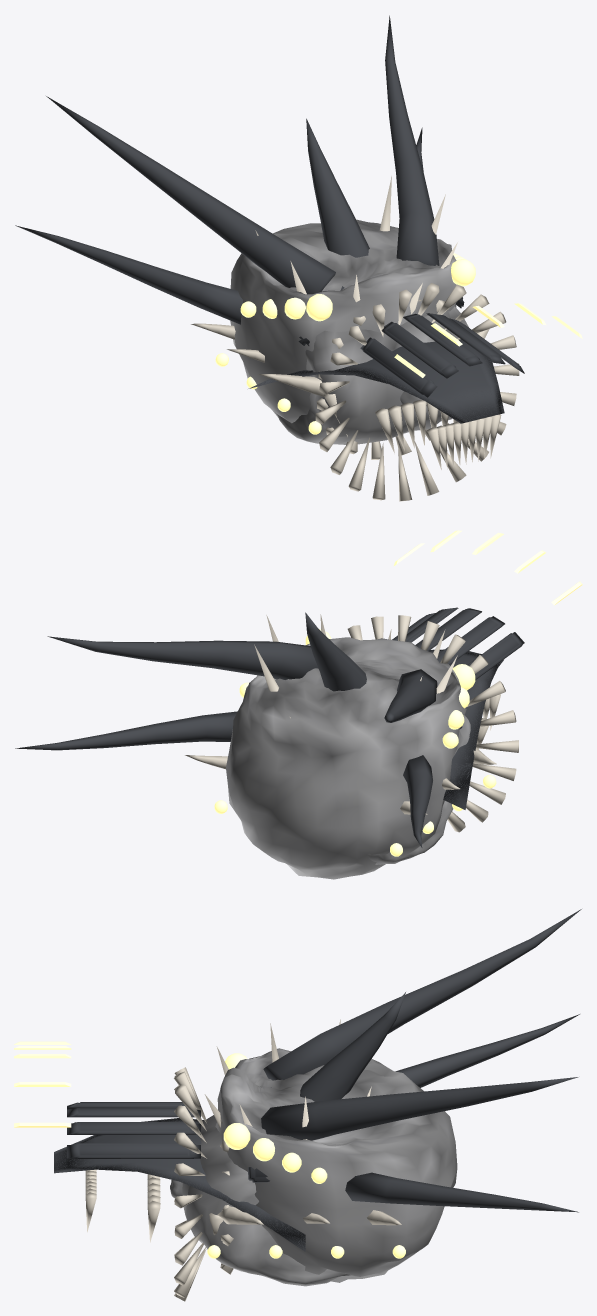
Rendered from worldeater.glb.
3 renders of one model, top to bottom at view 1: azimuth 30°, elevation 25°; view 2: azimuth 150°, elevation 25°; view 3: azimuth 270°, elevation 25°, orthographic.
Parts seen in each view (by area): view 1: we_head, we_seg, we_petal, we_tail, we_node; view 2: we_head, we_seg, we_tail, we_petal, we_node; view 3: we_head, we_seg, we_tail, we_petal, we_node.
Part boxes in pixels (bbox=[...]): we_head: bbox=[15, 15, 519, 501]; we_seg: bbox=[191, 118, 489, 444]; we_petal: bbox=[248, 339, 504, 469]; we_tail: bbox=[360, 303, 582, 408]; we_node: bbox=[255, 176, 457, 314]; we_head: bbox=[15, 615, 518, 879]; we_seg: bbox=[185, 612, 496, 864]; we_tail: bbox=[392, 530, 582, 679]; we_petal: bbox=[428, 649, 503, 809]; we_node: bbox=[254, 614, 457, 718]; we_head: bbox=[174, 909, 581, 1301]; we_seg: bbox=[182, 992, 405, 1286]; we_tail: bbox=[14, 1041, 200, 1198]; we_petal: bbox=[54, 1118, 305, 1251]; we_node: bbox=[204, 1019, 371, 1139].
Bounding box in the file's own units: 2.05 × 1.44 × 2.49.
